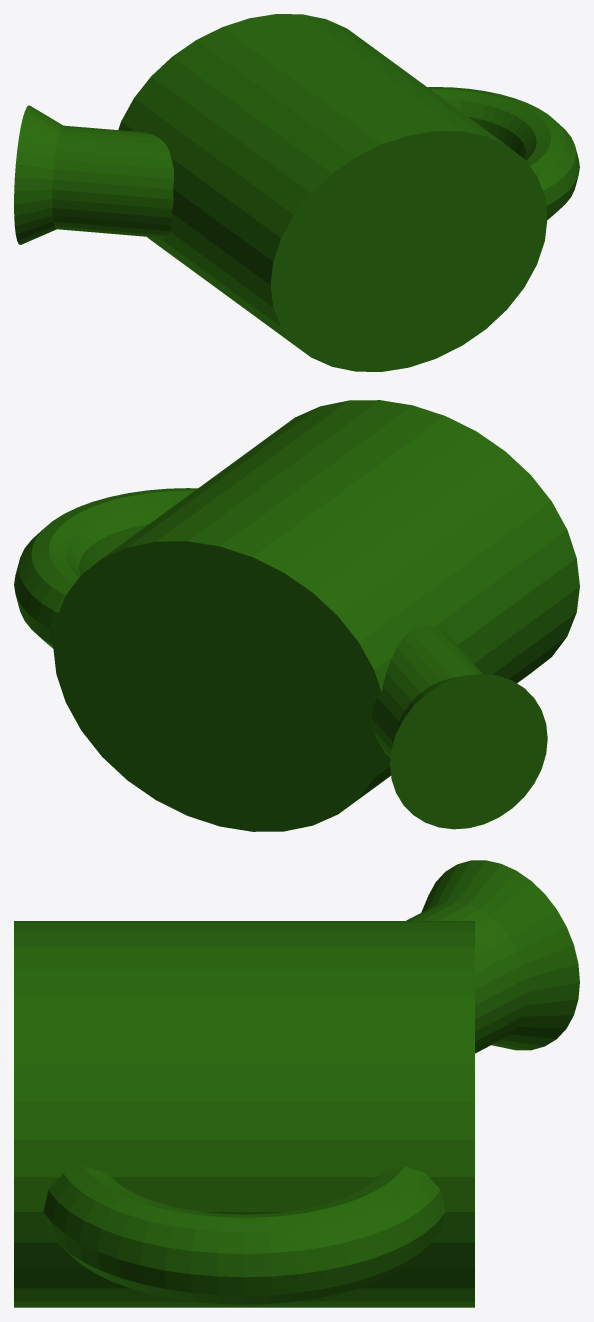
File: Can.glb
3 renders of one model, top to bottom at view 1: azimuth 30°, elevation 25°; view 2: azimuth 150°, elevation 25°; view 3: azimuth 270°, elevation 25°, orthographic. The views are drawn at different scales.
Parts seen in each view (by area): view 1: Cylinder, Cylinder.001; view 2: Cylinder, Cylinder.001; view 3: Cylinder, Cylinder.001.
Boxes of the visible parts, box(x1,y1,x2,y2) form: Cylinder: box(118, 14, 547, 371); Cylinder.001: box(14, 87, 579, 244); Cylinder: box(53, 400, 579, 831); Cylinder.001: box(14, 488, 547, 829); Cylinder: box(14, 921, 474, 1307); Cylinder.001: box(43, 860, 579, 1304).
Bounding box in the file's own units: 4.37 × 2 × 3.06.
